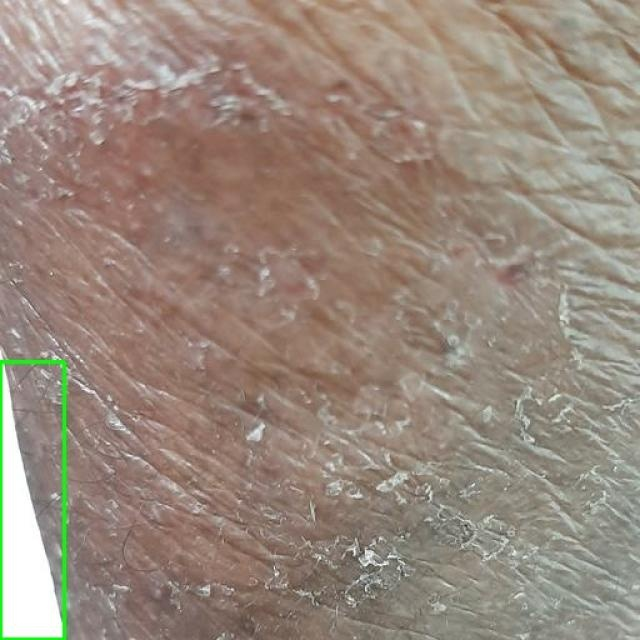Tinea Corporis: (0, 361, 64, 639)
